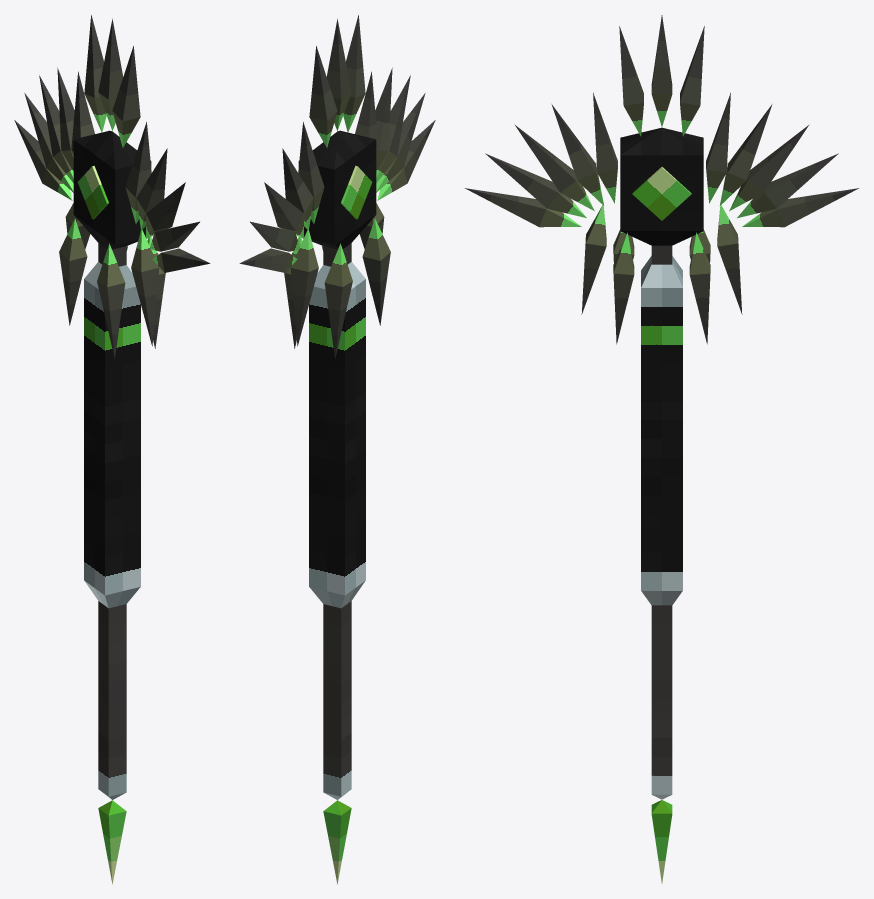
File: staff_hellfire.obj
3 views of the same model, side by side, from view 1: azimuth 30°, elevation 25°; view 2: azimuth 150°, elevation 25°; view 3: azimuth 270°, elevation 25° (orthographic).
Visible parts, largest first — view 1: STAFF_HELLFIRE_Cube.012; view 2: STAFF_HELLFIRE_Cube.012; view 3: STAFF_HELLFIRE_Cube.012.
Part boxes in pixels (left/top/right/bottom): STAFF_HELLFIRE_Cube.012: left=14, top=15, right=210, bottom=884; STAFF_HELLFIRE_Cube.012: left=239, top=15, right=435, bottom=884; STAFF_HELLFIRE_Cube.012: left=464, top=15, right=859, bottom=883.
Size of the model in its own units: 0.2031 by 2.88 by 1.18.
